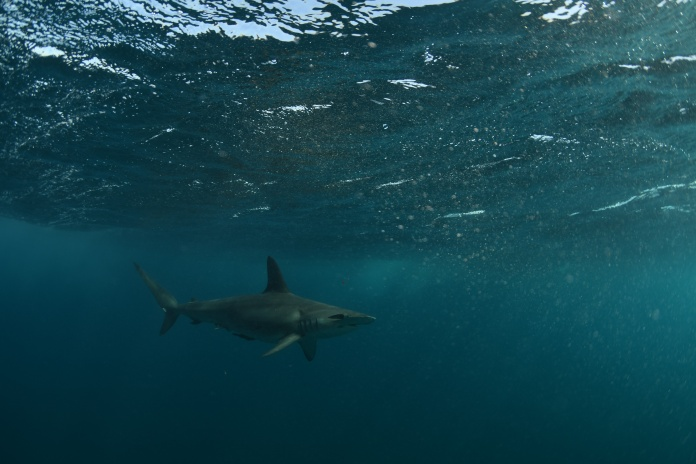Hammer: (103, 227, 415, 409)
